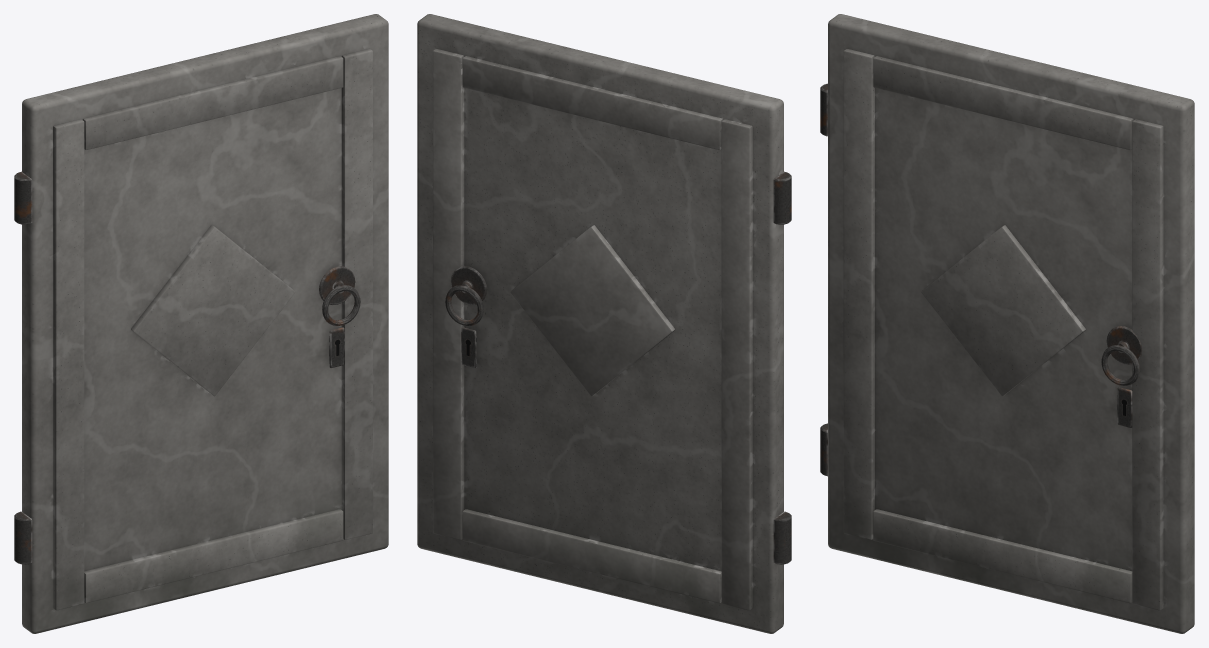
Rendered from door_stone.glb.
3 views of the same model, side by side, from view 1: azimuth 30°, elevation 25°; view 2: azimuth 150°, elevation 25°; view 3: azimuth 330°, elevation 25° (orthographic).
Parts seen in each view (by area): view 1: door_stone; view 2: door_stone; view 3: door_stone.
Boxes of the visible parts, box(x1,y1,x2,y2) form: door_stone: box(14, 14, 388, 633); door_stone: box(417, 14, 791, 633); door_stone: box(820, 14, 1194, 633).
Bounding box in the file's own units: 1.02 × 1.4 × 0.143.
1 material, 1 textured.
